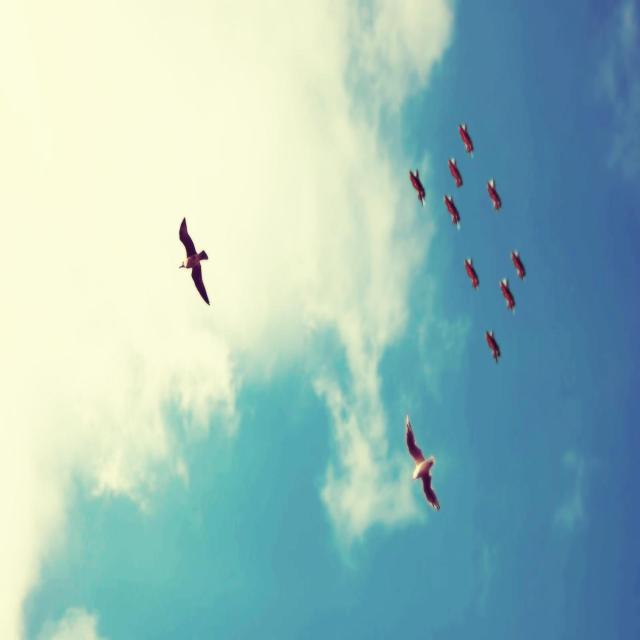airplane: (409, 168, 426, 206), (444, 194, 460, 230), (500, 277, 516, 313), (458, 123, 474, 156), (486, 178, 502, 211), (464, 257, 479, 290), (510, 250, 526, 280), (486, 329, 500, 363), (448, 157, 462, 187)
